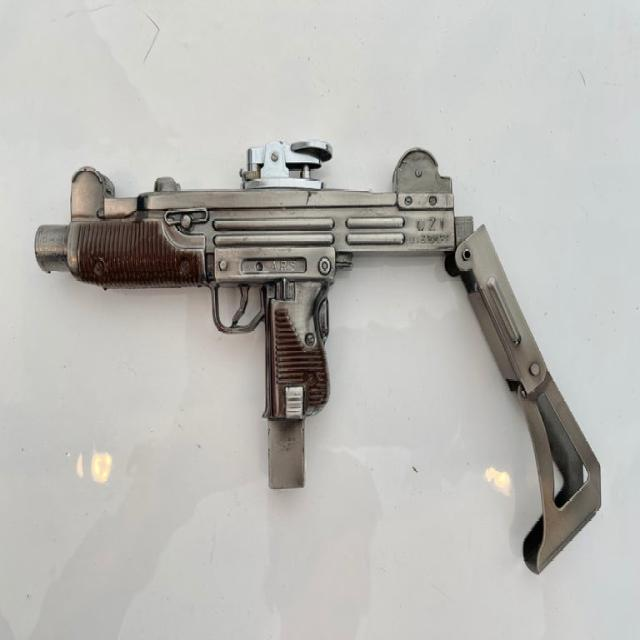SMG: (36, 147, 457, 489)
